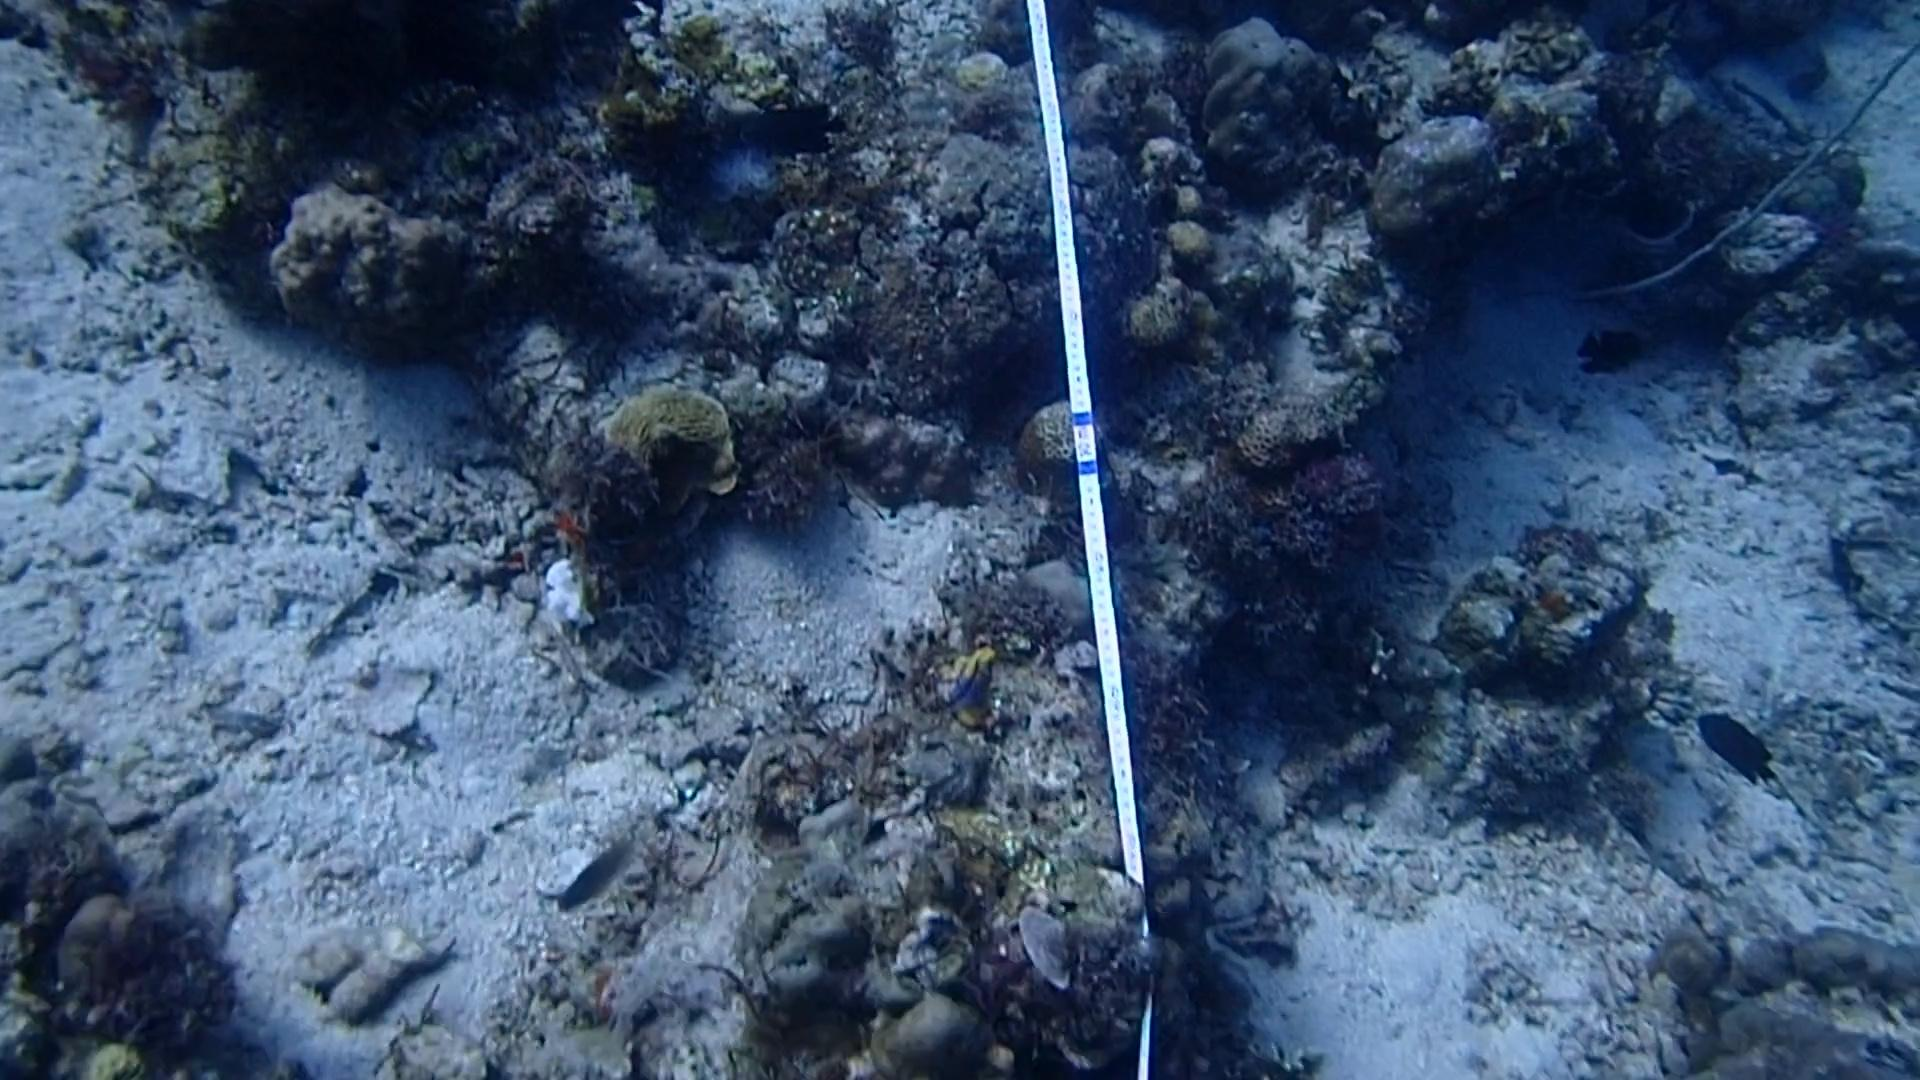Dark Fish: (1685, 699, 1785, 795), (744, 91, 851, 164), (1571, 316, 1647, 385)
Light Fish: (547, 810, 651, 916)
